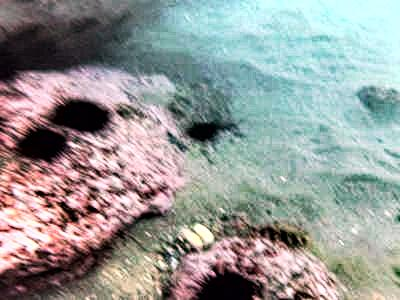urchin: (17, 124, 67, 163), (52, 99, 110, 132), (191, 267, 258, 295)
